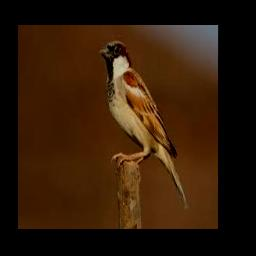Sparrow: (99, 41, 189, 211)
